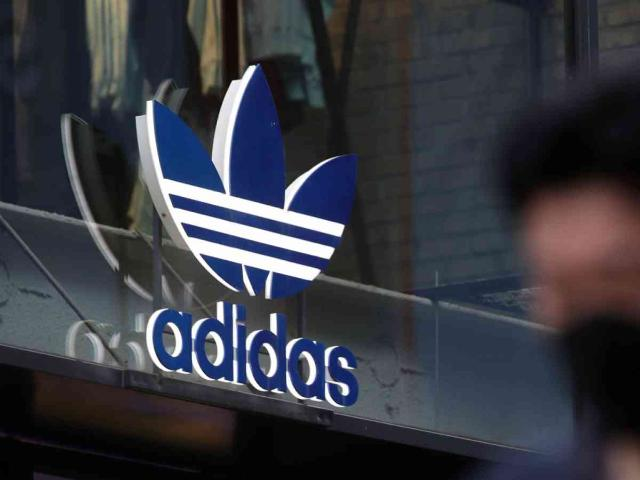Adidas: (120, 45, 396, 425)
